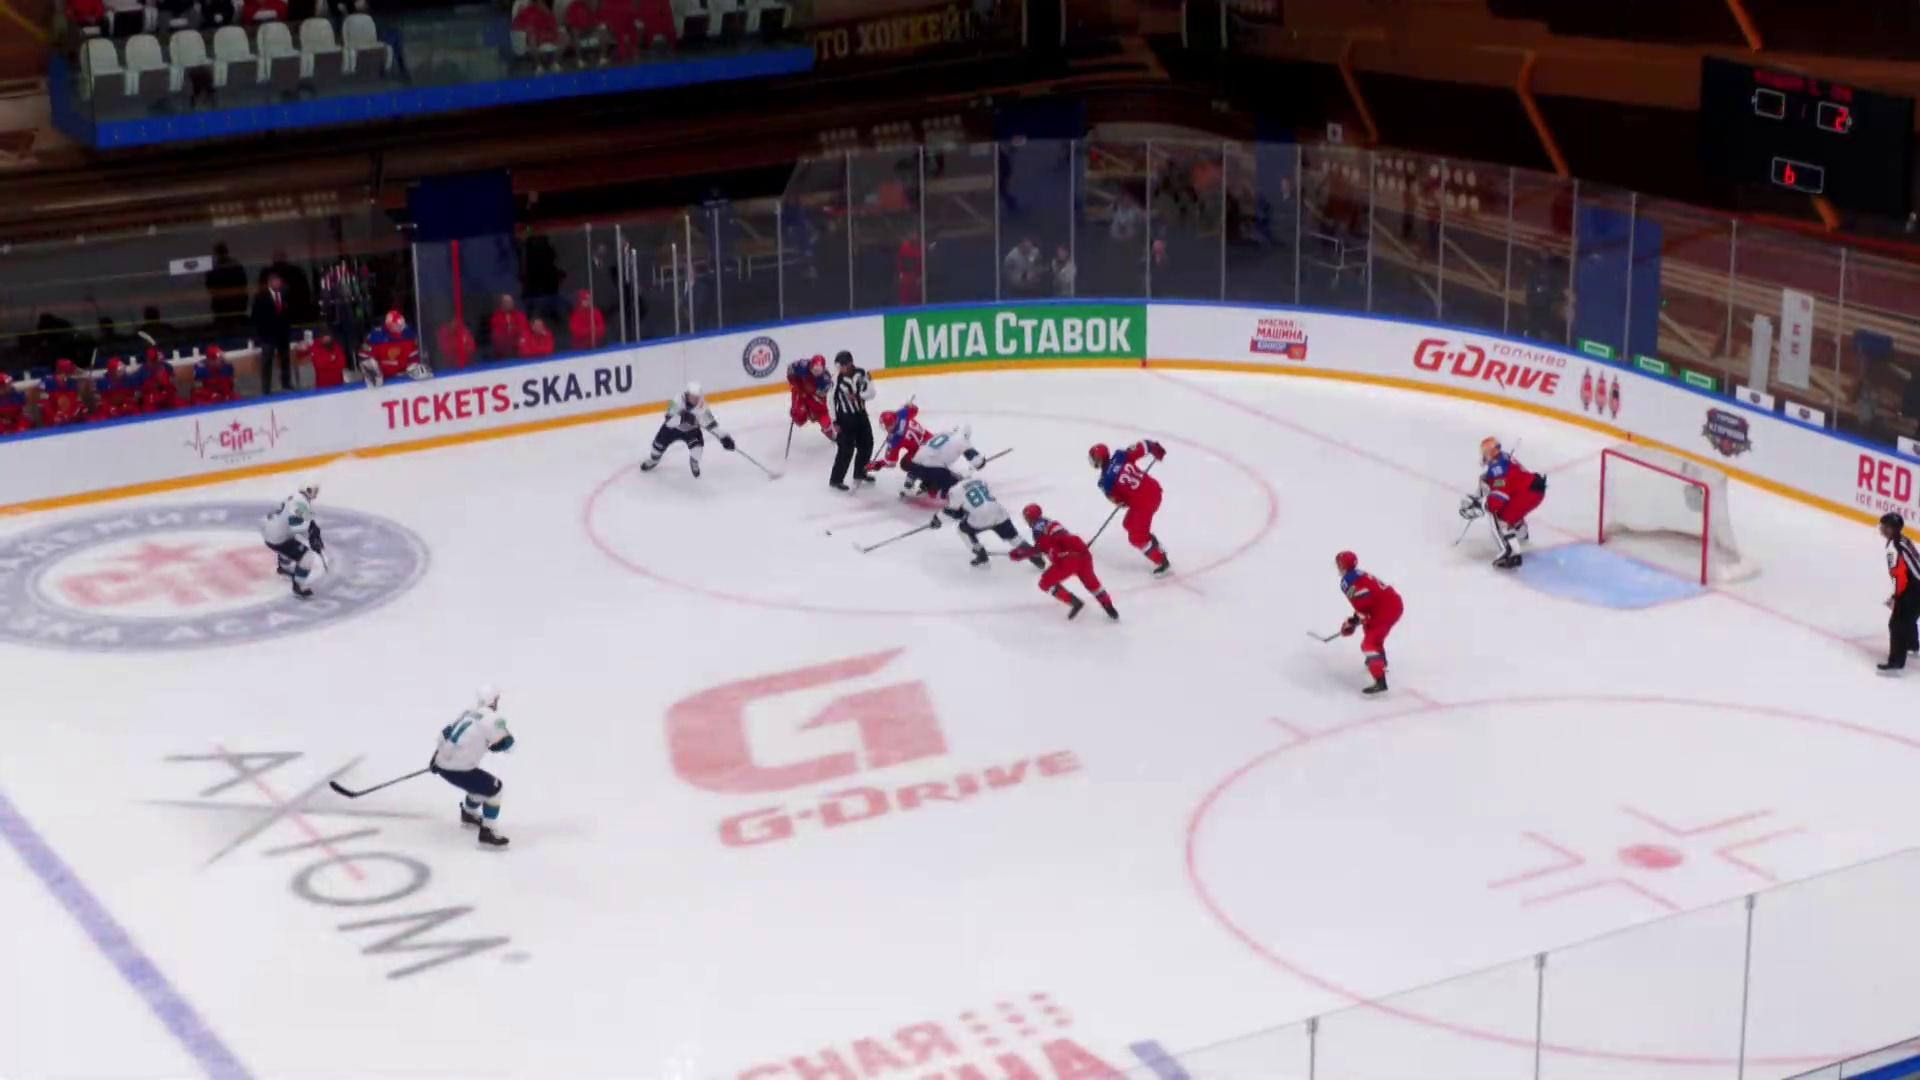ball: (825, 530, 832, 537)
